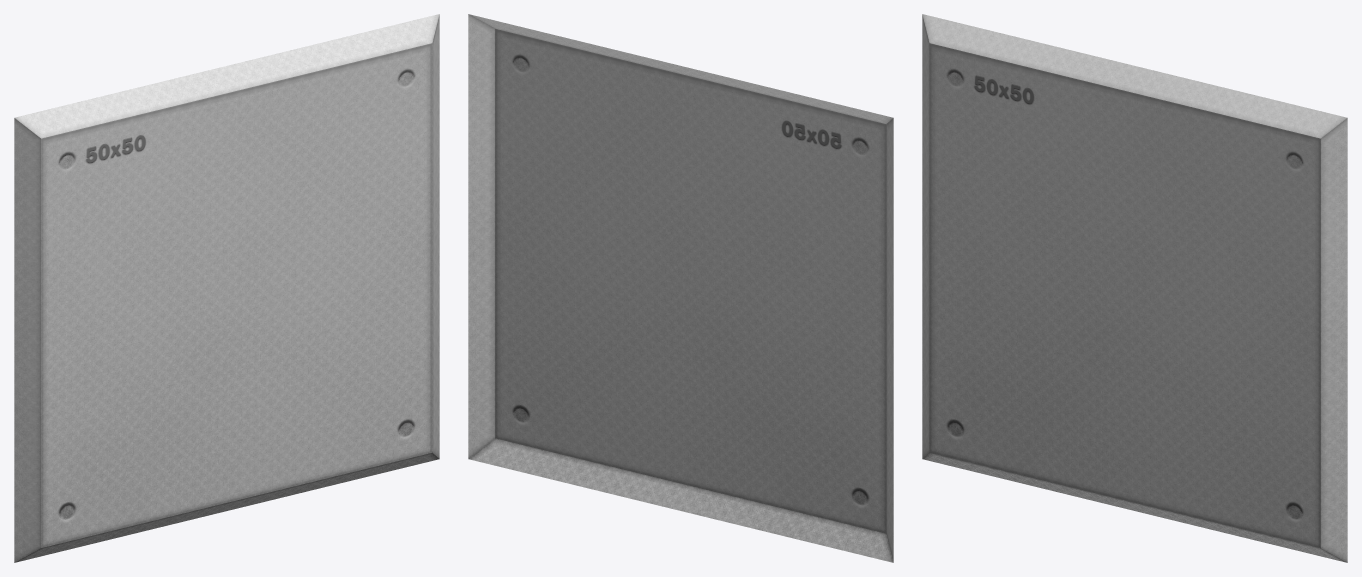
3 renders of one model, left to right at view 1: azimuth 30°, elevation 25°; view 2: azimuth 150°, elevation 25°; view 3: azimuth 330°, elevation 25°, orthographic.
Visible parts, largest first — view 1: Box23; view 2: Box23; view 3: Box23.
Part boxes in pixels (x1,y1,x2,y2): Box23: (14, 14, 439, 562); Box23: (468, 14, 893, 562); Box23: (922, 14, 1347, 562).
Bounding box in the file's own units: 50 × 50 × 2.
1 material, 1 textured.
